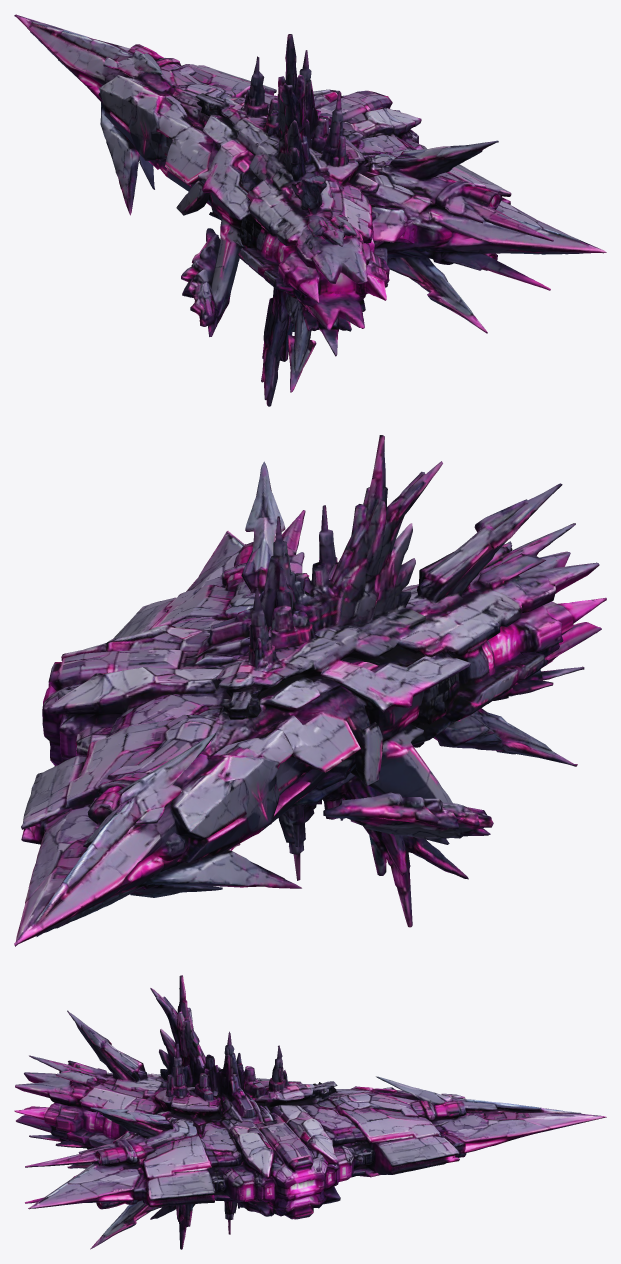
File: st3d_cyber_shardstorm.glb
3 renders of one model, top to bottom at view 1: azimuth 30°, elevation 25°; view 2: azimuth 150°, elevation 25°; view 3: azimuth 270°, elevation 25°, orthographic. The views are drawn at different scales.
Visible parts, largest first — view 1: HOMELANCER_Station3D_RoamingCybermorph-Shardstorm_v1; view 2: HOMELANCER_Station3D_RoamingCybermorph-Shardstorm_v1; view 3: HOMELANCER_Station3D_RoamingCybermorph-Shardstorm_v1.
Part boxes in pixels (left/top/right/bottom): HOMELANCER_Station3D_RoamingCybermorph-Shardstorm_v1: left=14, top=14, right=606, bottom=406; HOMELANCER_Station3D_RoamingCybermorph-Shardstorm_v1: left=14, top=435, right=606, bottom=946; HOMELANCER_Station3D_RoamingCybermorph-Shardstorm_v1: left=14, top=975, right=606, bottom=1249.
Bounding box in the file's own units: 0.4382 × 0.5048 × 0.9636.
Materials: 1 (1 with a texture image).
